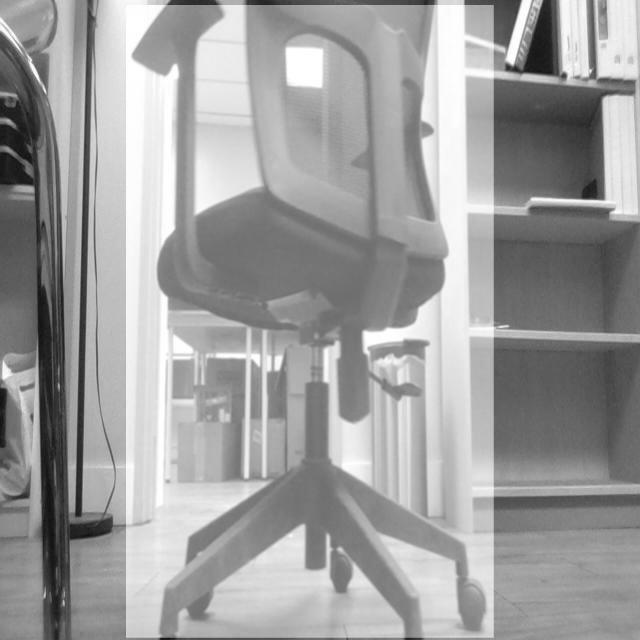chair: (126, 5, 494, 639)
